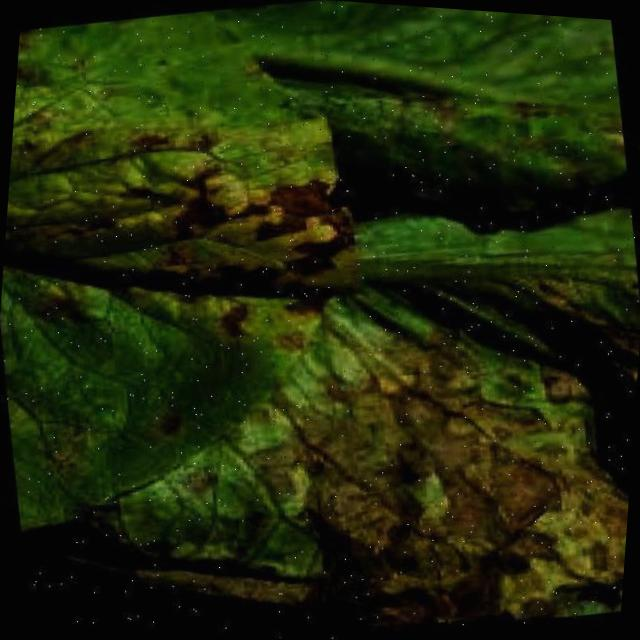Septoria_Blight_on_lettuce: (0, 15, 397, 490), (245, 388, 634, 635)
